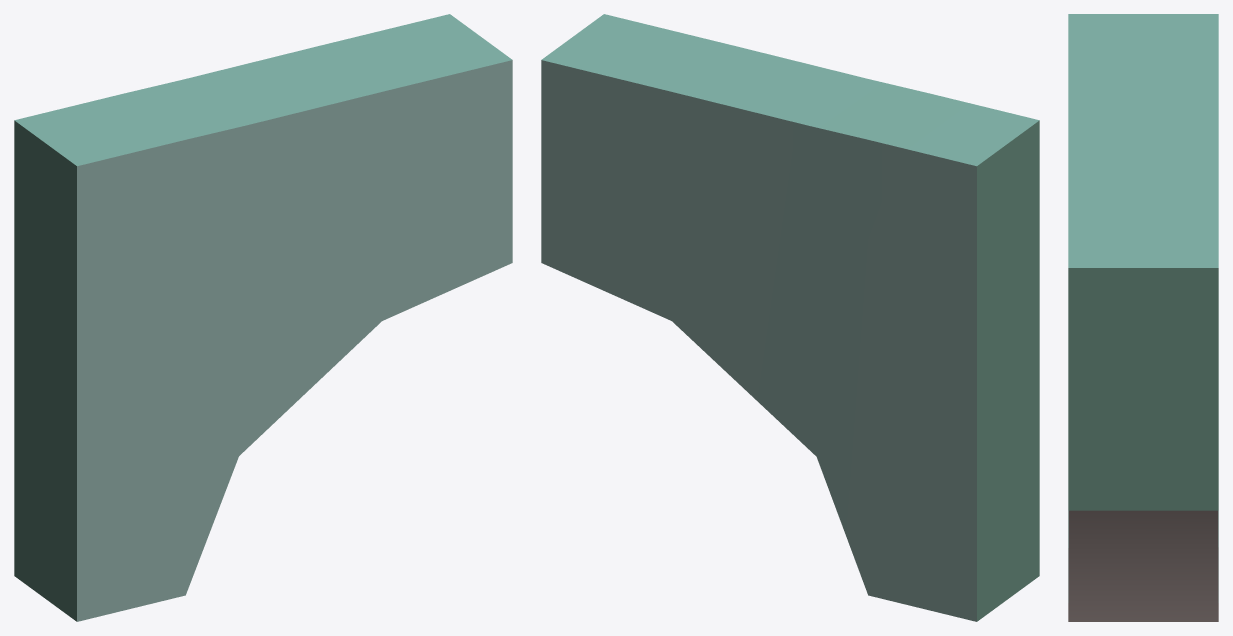
The model's file is SM_Arche0,5_2x1.FBX.
3 views of the same model, side by side, from view 1: azimuth 30°, elevation 25°; view 2: azimuth 150°, elevation 25°; view 3: azimuth 270°, elevation 25° (orthographic). The views are drawn at different scales.
Visible parts, largest first — view 1: SM_Arche0,5_2x1; view 2: SM_Arche0,5_2x1; view 3: SM_Arche0,5_2x1.
Part boxes in pixels (x1,y1,x2,y2): SM_Arche0,5_2x1: (14, 14, 512, 621); SM_Arche0,5_2x1: (541, 14, 1039, 621); SM_Arche0,5_2x1: (1068, 14, 1218, 621).
Size of the model in its own units: 100 by 100 by 25.
